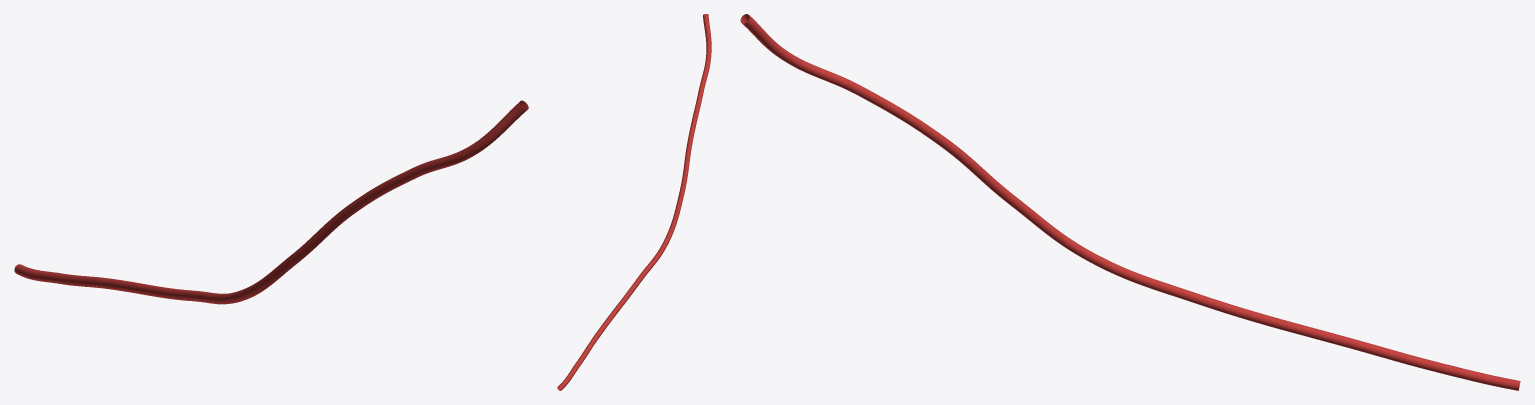
3 renders of one model, left to right at view 1: azimuth 30°, elevation 25°; view 2: azimuth 150°, elevation 25°; view 3: azimuth 270°, elevation 25°, orthographic. The views are drawn at different scales.
Parts seen in each view (by area): view 1: 左侧胸廓内动脉; view 2: 左侧胸廓内动脉; view 3: 左侧胸廓内动脉.
Part boxes in pixels (x1,y1,x2,y2): 左侧胸廓内动脉: (14,100,528,304); 左侧胸廓内动脉: (557,14,711,390); 左侧胸廓内动脉: (740,14,1520,390).
Size of the model in its own units: 0.0425 by 0.1531 by 0.2544.
